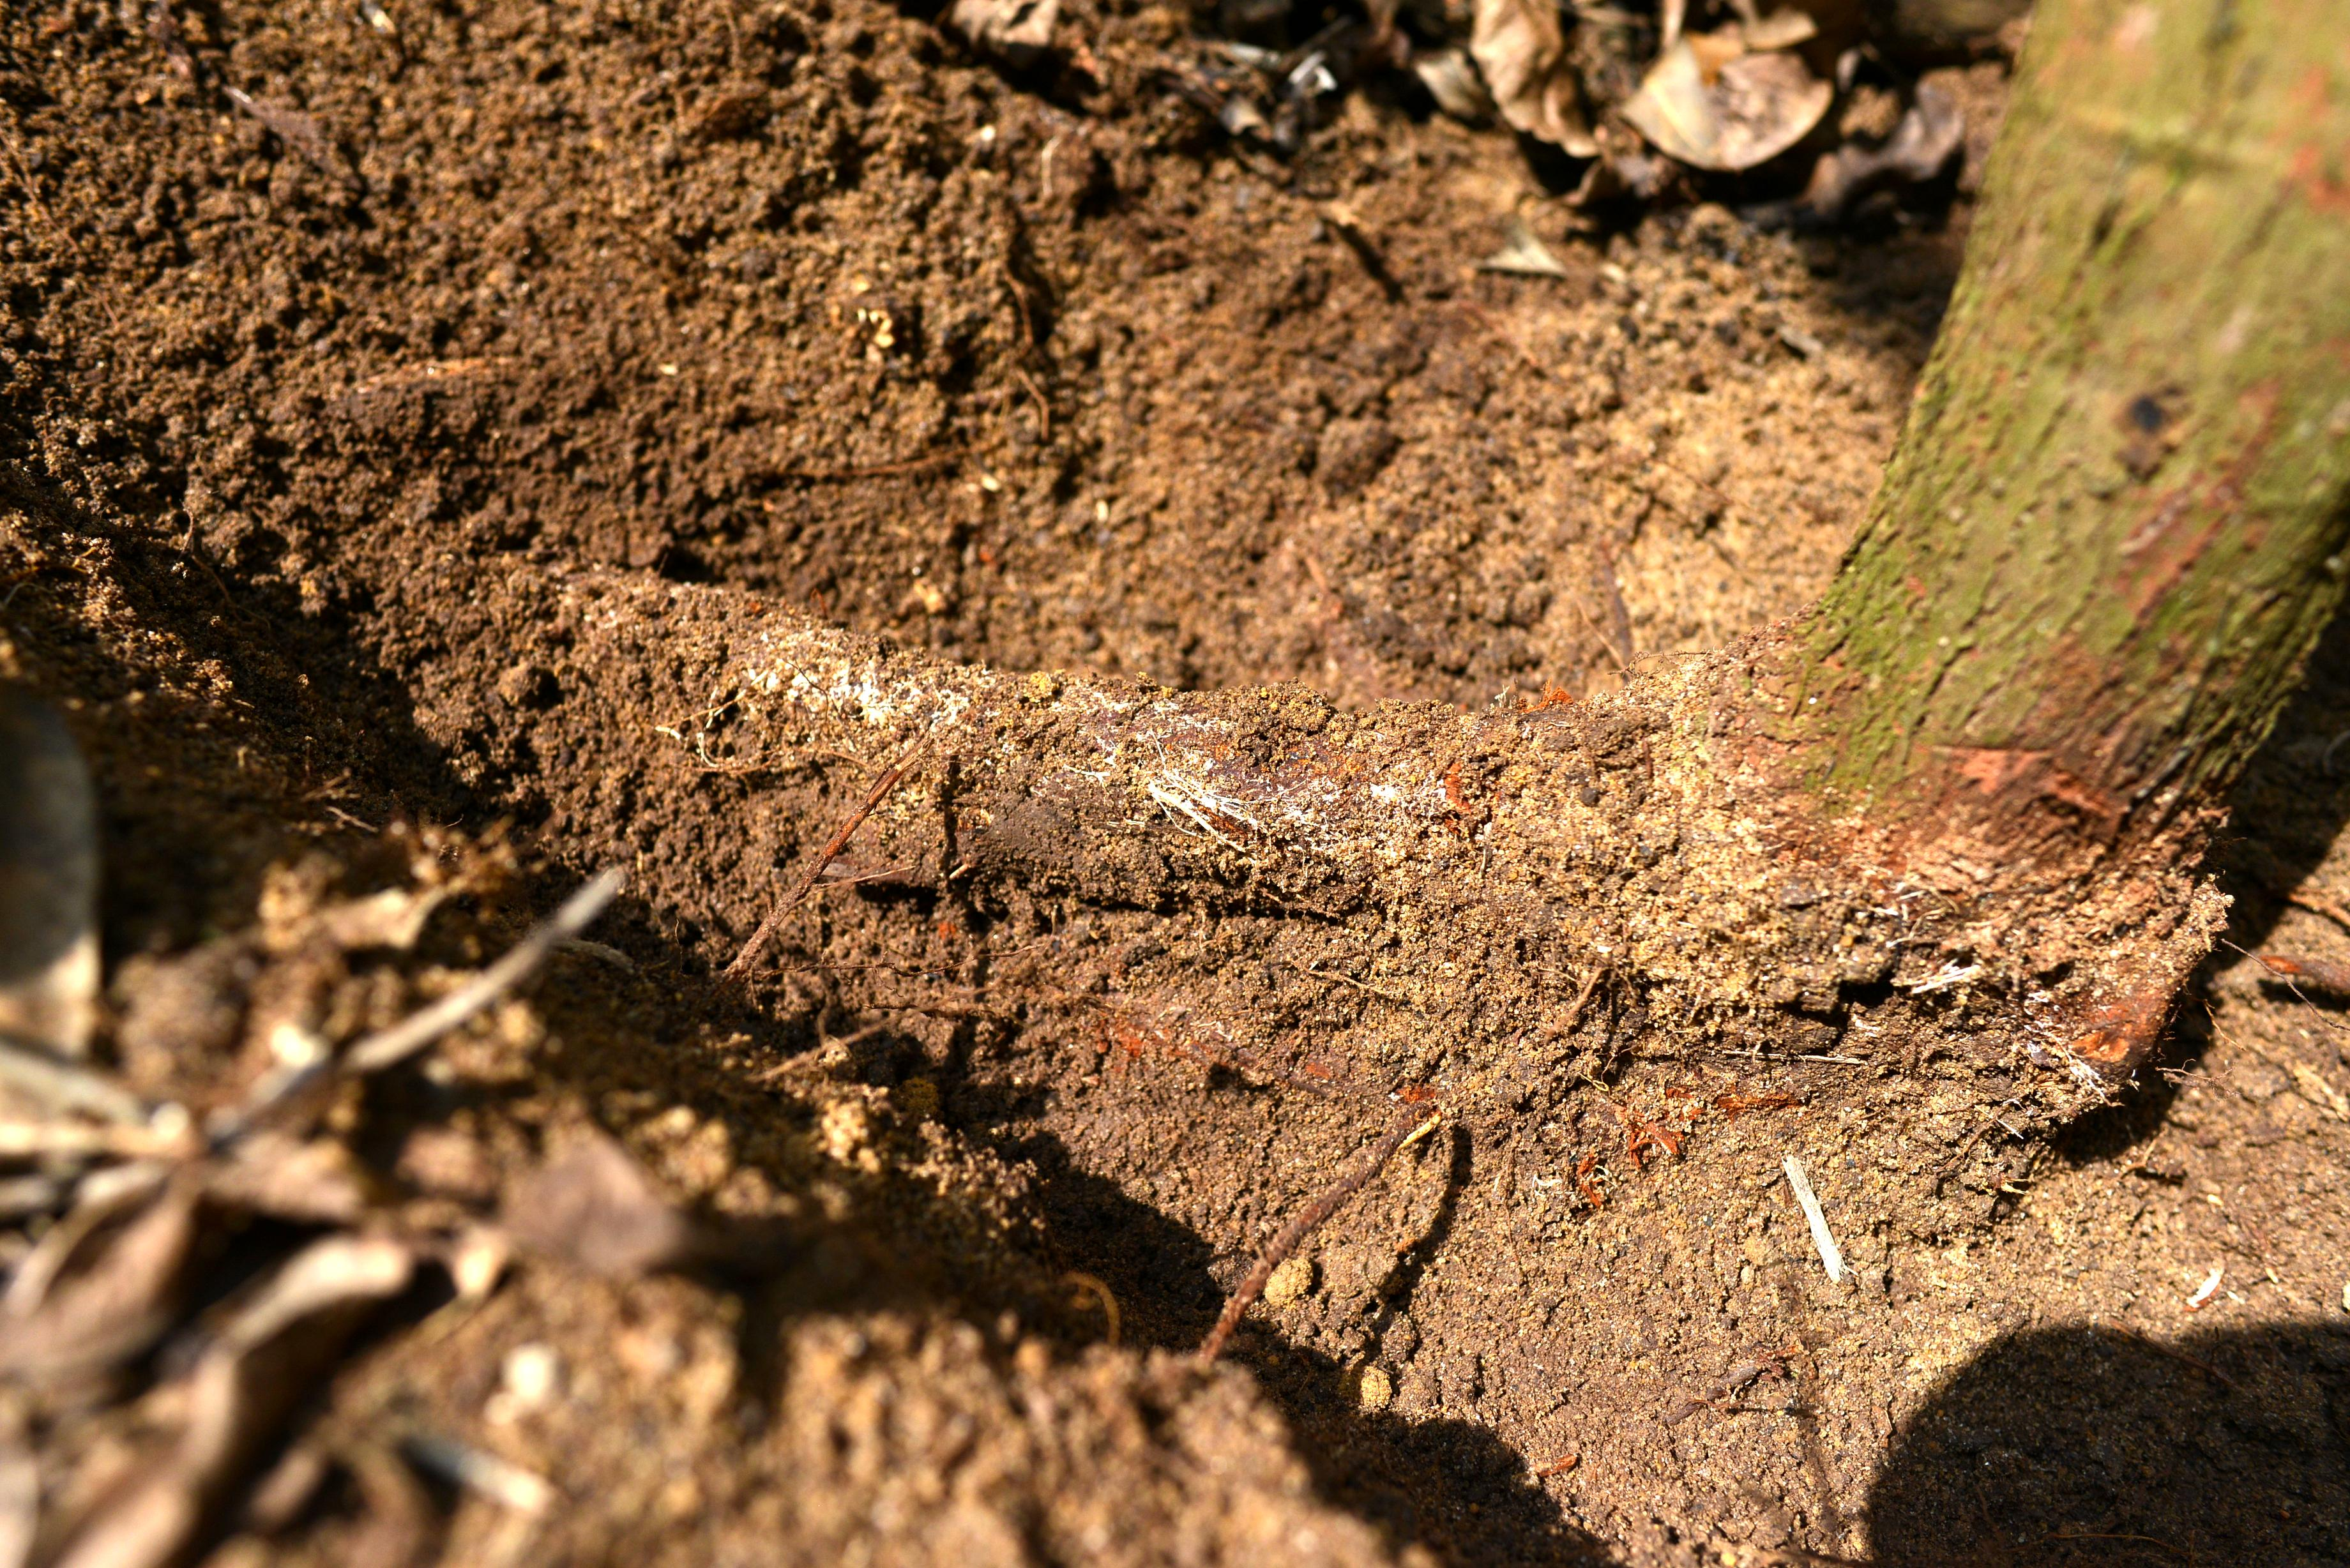Ganoderma - Mycelium: (731, 651, 1508, 864), (1620, 661, 2025, 1029), (2074, 1015, 2152, 1115)
Red Root Rot - Secretion: (1092, 1015, 1781, 1202)
